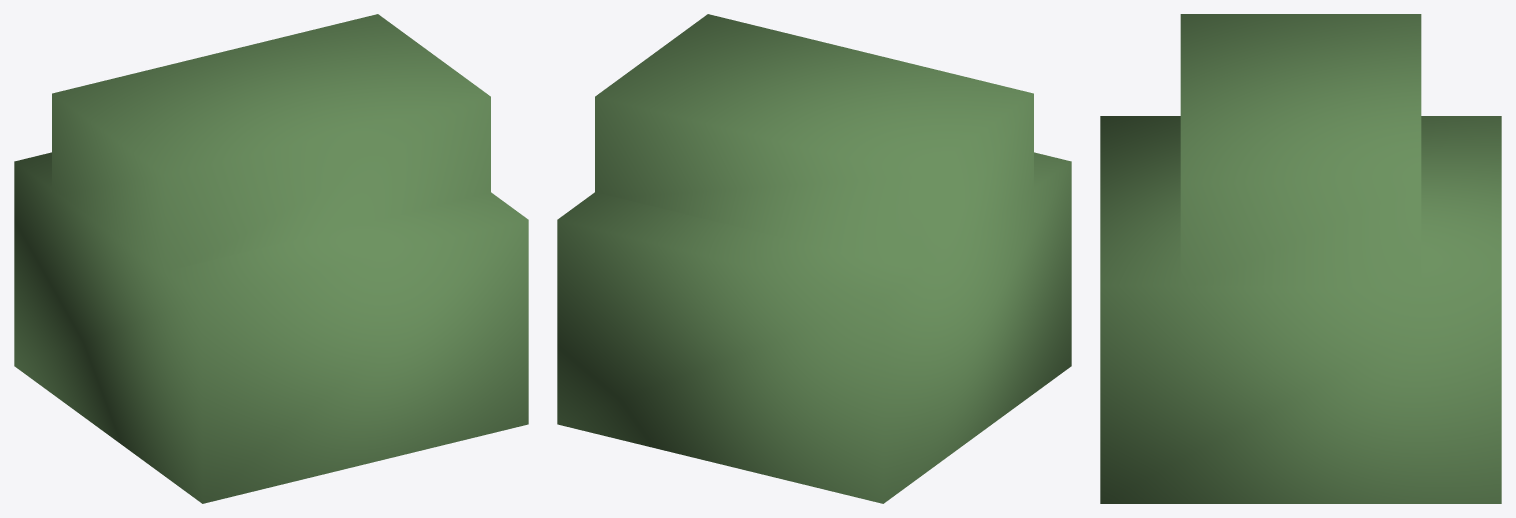
The model's file is agave_farm.obj.
3 renders of one model, left to right at view 1: azimuth 30°, elevation 25°; view 2: azimuth 150°, elevation 25°; view 3: azimuth 270°, elevation 25°, orthographic. The views are drawn at different scales.
Parts seen in each view (by area): view 1: building; view 2: building; view 3: building.
Boxes of the visible parts, left/top/right/bottom form: building: left=14, top=14, right=528, bottom=503; building: left=557, top=14, right=1071, bottom=503; building: left=1100, top=14, right=1501, bottom=503.
Bounding box in the file's own units: 2.5 × 2.2 × 2.5.
